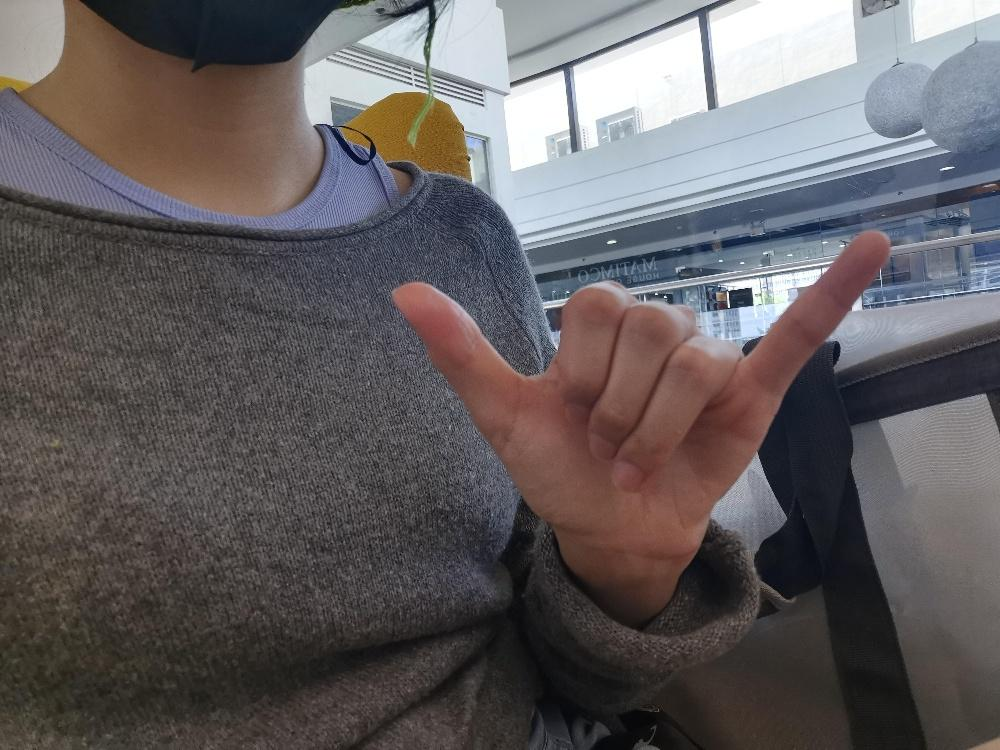y: (389, 225, 891, 556)
